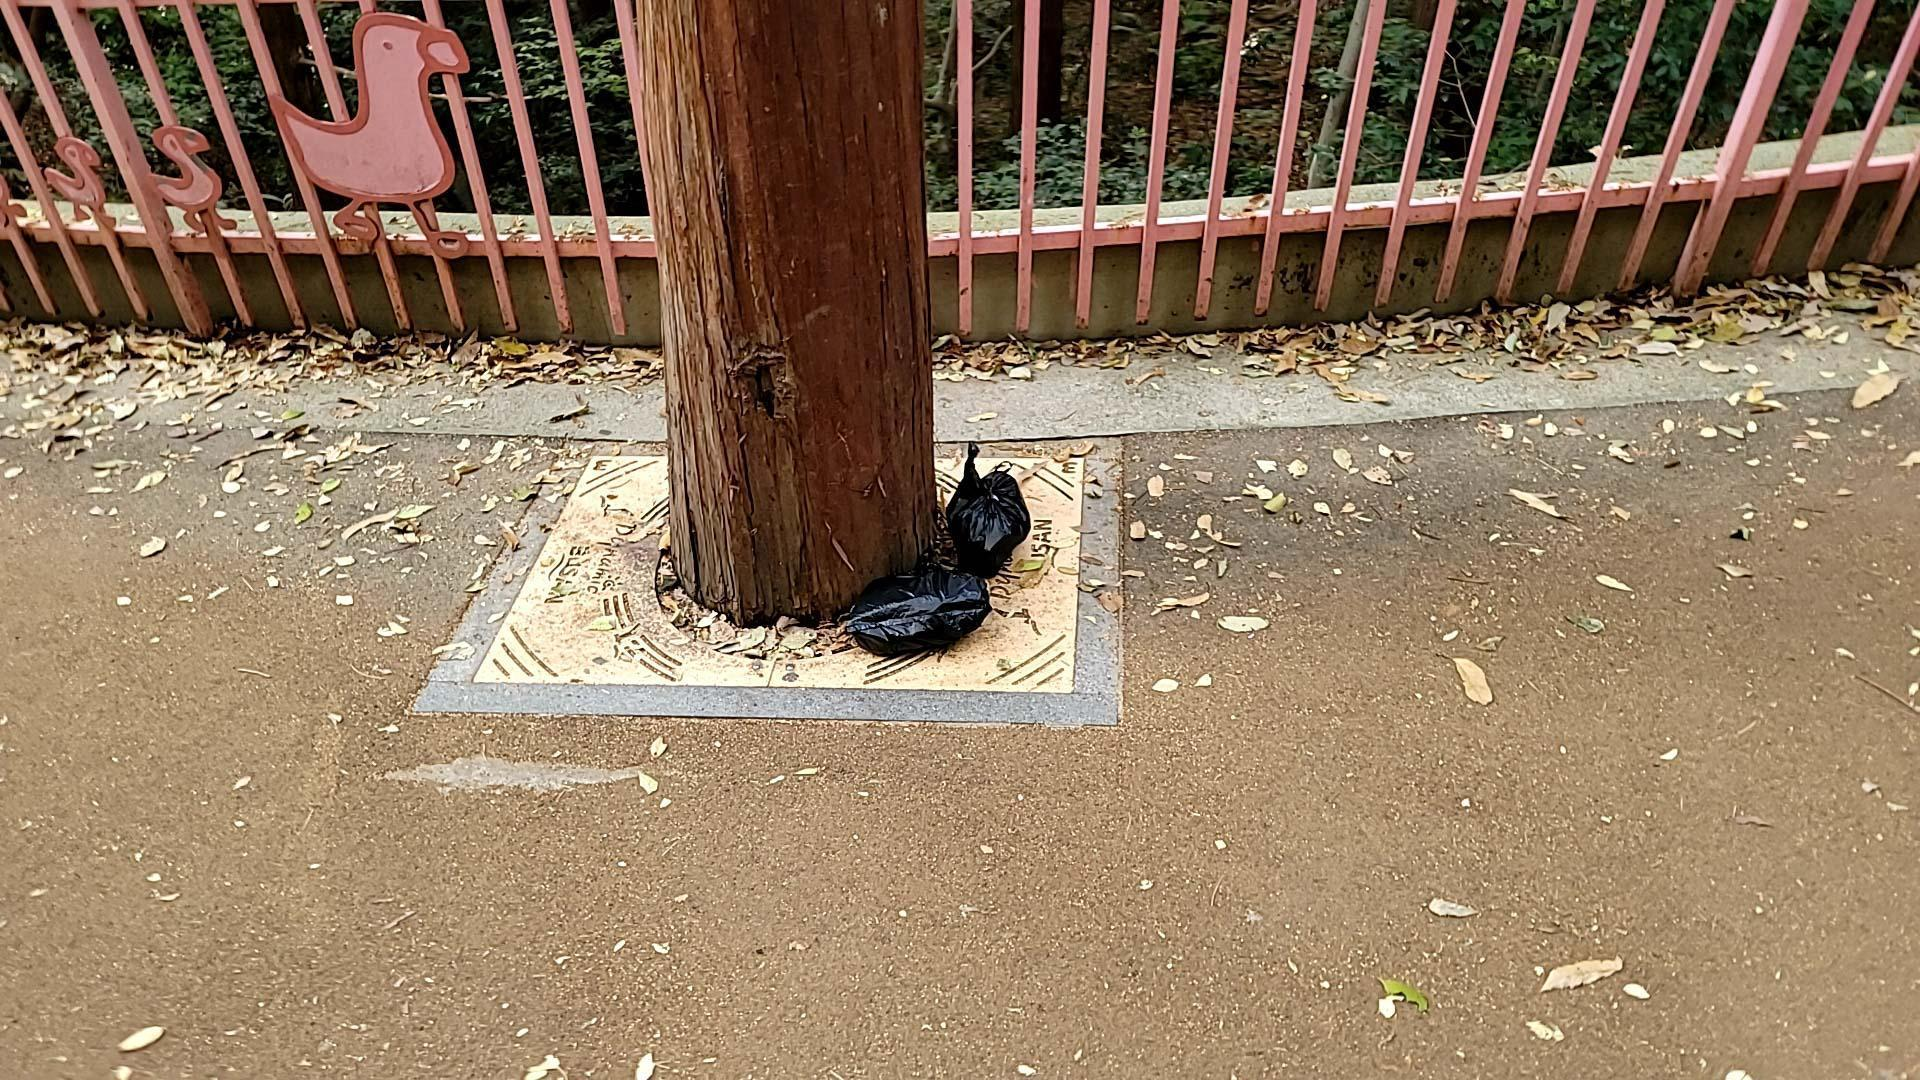black_bag: (840, 558, 993, 662), (940, 440, 1044, 571)
